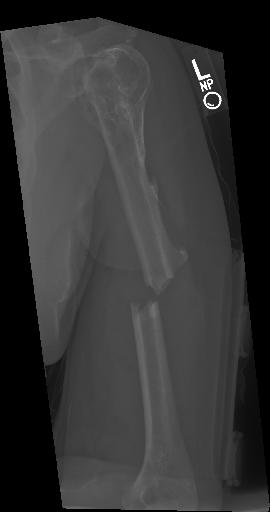humerus: (121, 218, 209, 374)
